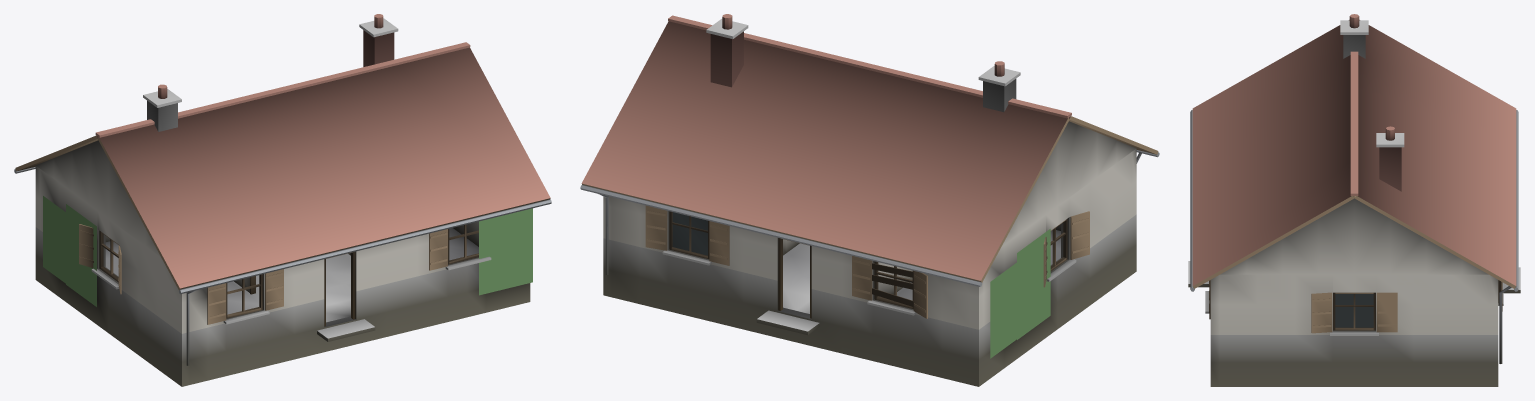
The model's file is farmhouse.glb.
3 views of the same model, side by side, from view 1: azimuth 30°, elevation 25°; view 2: azimuth 150°, elevation 25°; view 3: azimuth 270°, elevation 25° (orthographic). The views are drawn at different scales.
Visible parts, largest first — view 1: farmhouse; view 2: farmhouse; view 3: farmhouse.
Boxes of the visible parts, box(x1,y1,x2,y2) form: farmhouse: box(14, 14, 551, 386); farmhouse: box(580, 14, 1159, 386); farmhouse: box(1188, 14, 1520, 386).
Size of the model in its own units: 11.7 by 7.05 by 9.24.
